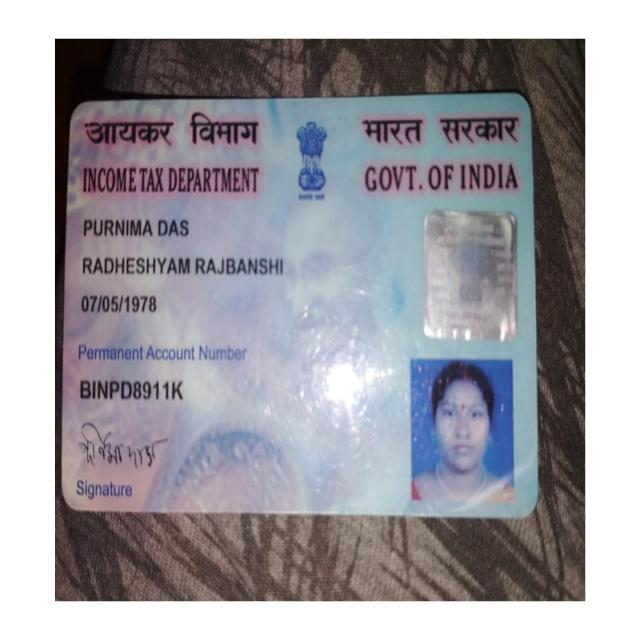pan_card: (64, 94, 534, 512)
